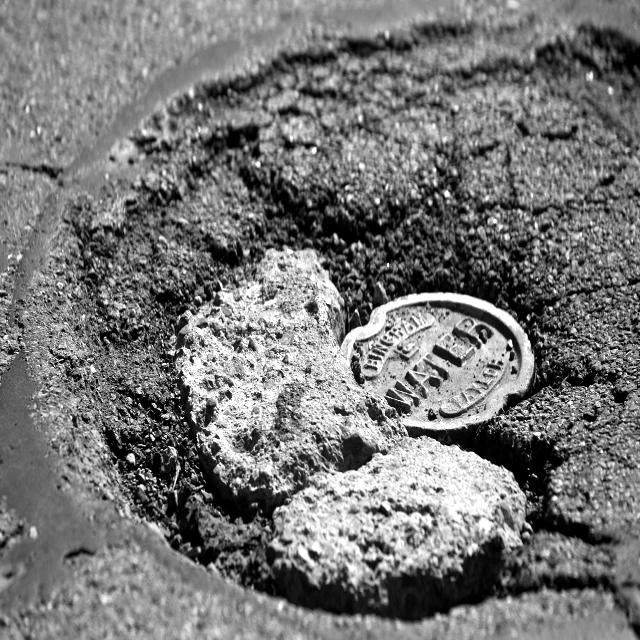pathole: (44, 71, 592, 640)
